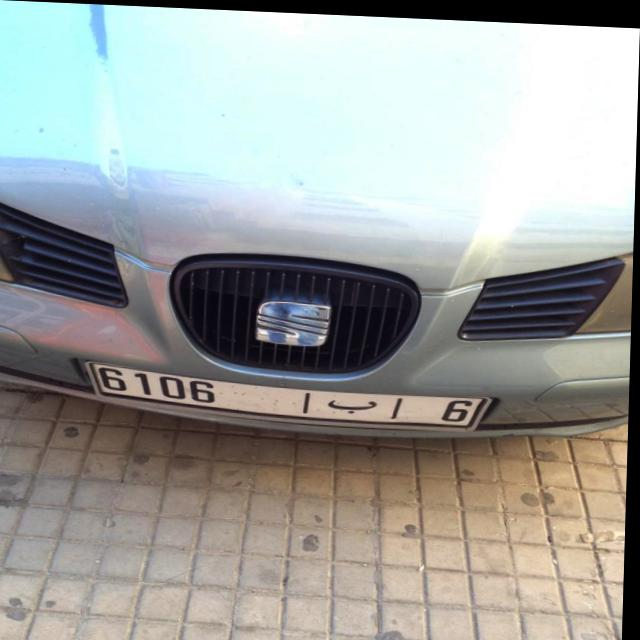License-Plate: (88, 361, 493, 425)
